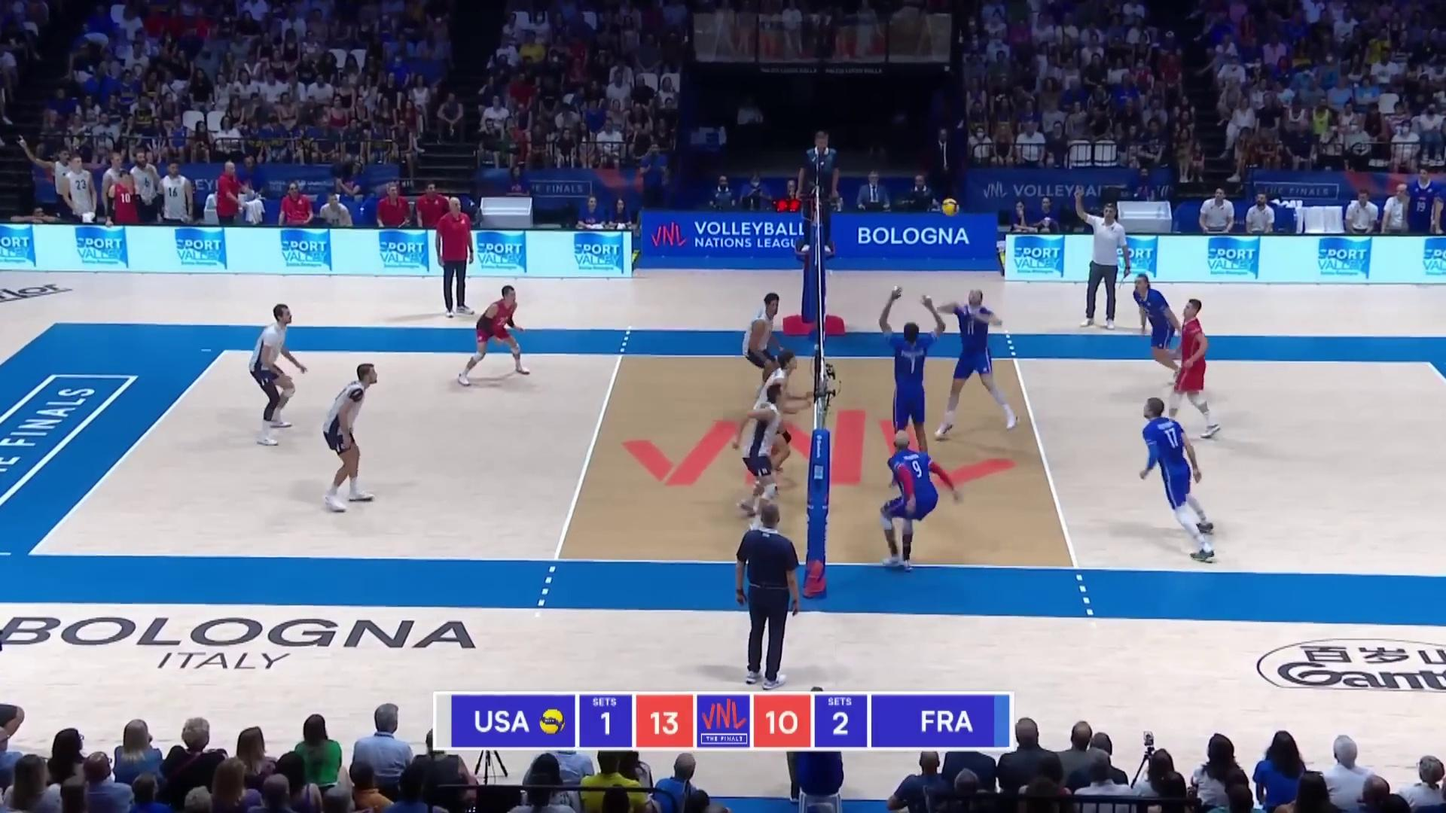player: (1130, 397, 1213, 562), (934, 294, 1021, 440), (884, 431, 959, 571), (890, 294, 941, 494), (323, 367, 378, 511), (740, 378, 797, 515), (1173, 297, 1227, 441), (749, 348, 803, 488), (247, 309, 303, 442), (457, 290, 531, 387), (1126, 267, 1180, 391), (743, 291, 796, 402)
refree: (740, 500, 809, 681), (797, 134, 839, 255)
